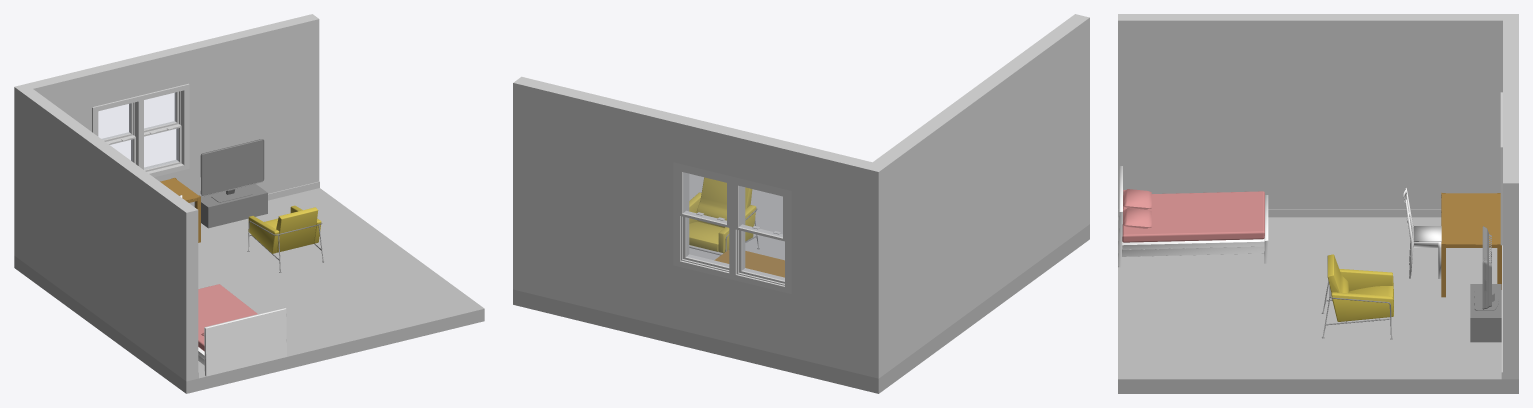
Rendered from L16_W16_furniture3_daylight1.glb.
3 renders of one model, left to right at view 1: azimuth 30°, elevation 25°; view 2: azimuth 150°, elevation 25°; view 3: azimuth 270°, elevation 25°, orthographic. The views are drawn at different scales.
Bounding box in the file's own units: 200 × 116 × 200.
